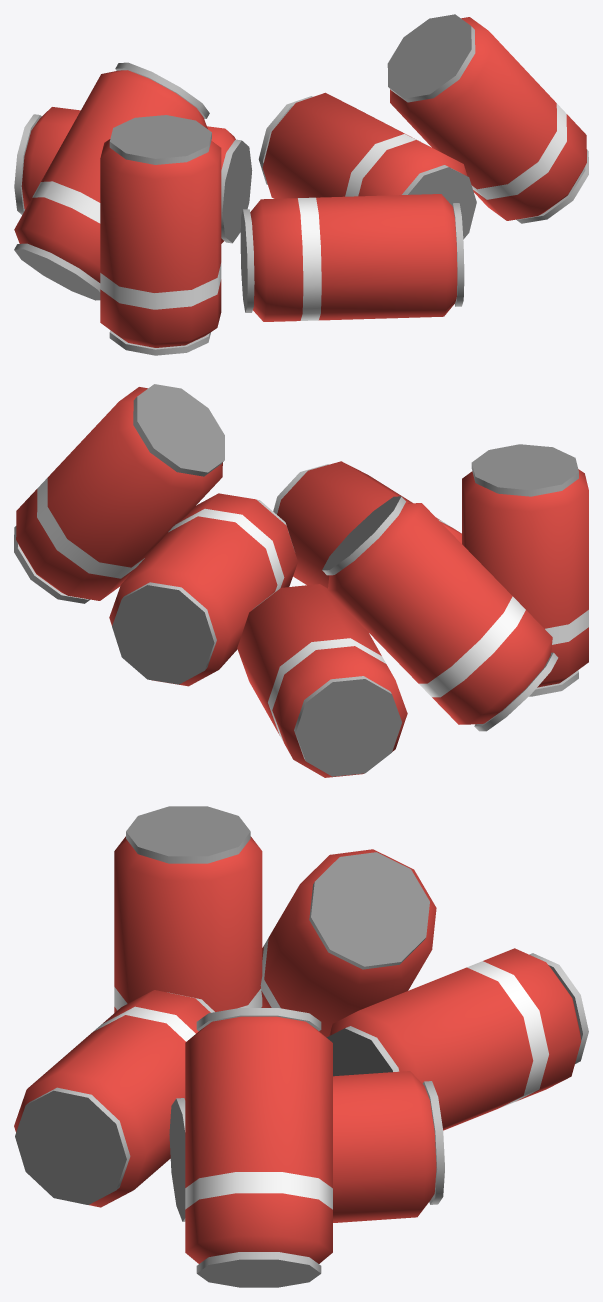
File: can_pyramid_fallen.glb
3 views of the same model, one above another, from view 1: azimuth 30°, elevation 25°; view 2: azimuth 150°, elevation 25°; view 3: azimuth 270°, elevation 25° (orthographic). The views are drawn at different scales.
Visible parts, largest first — view 1: can_pyramid_fallen; view 2: can_pyramid_fallen; view 3: can_pyramid_fallen.
Part boxes in pixels (<box>): can_pyramid_fallen: <box>14,14,588,355</box>; can_pyramid_fallen: <box>14,384,588,777</box>; can_pyramid_fallen: <box>14,806,588,1287</box>.
Size of the model in its own units: 0.8389 by 0.32 by 0.6606.
